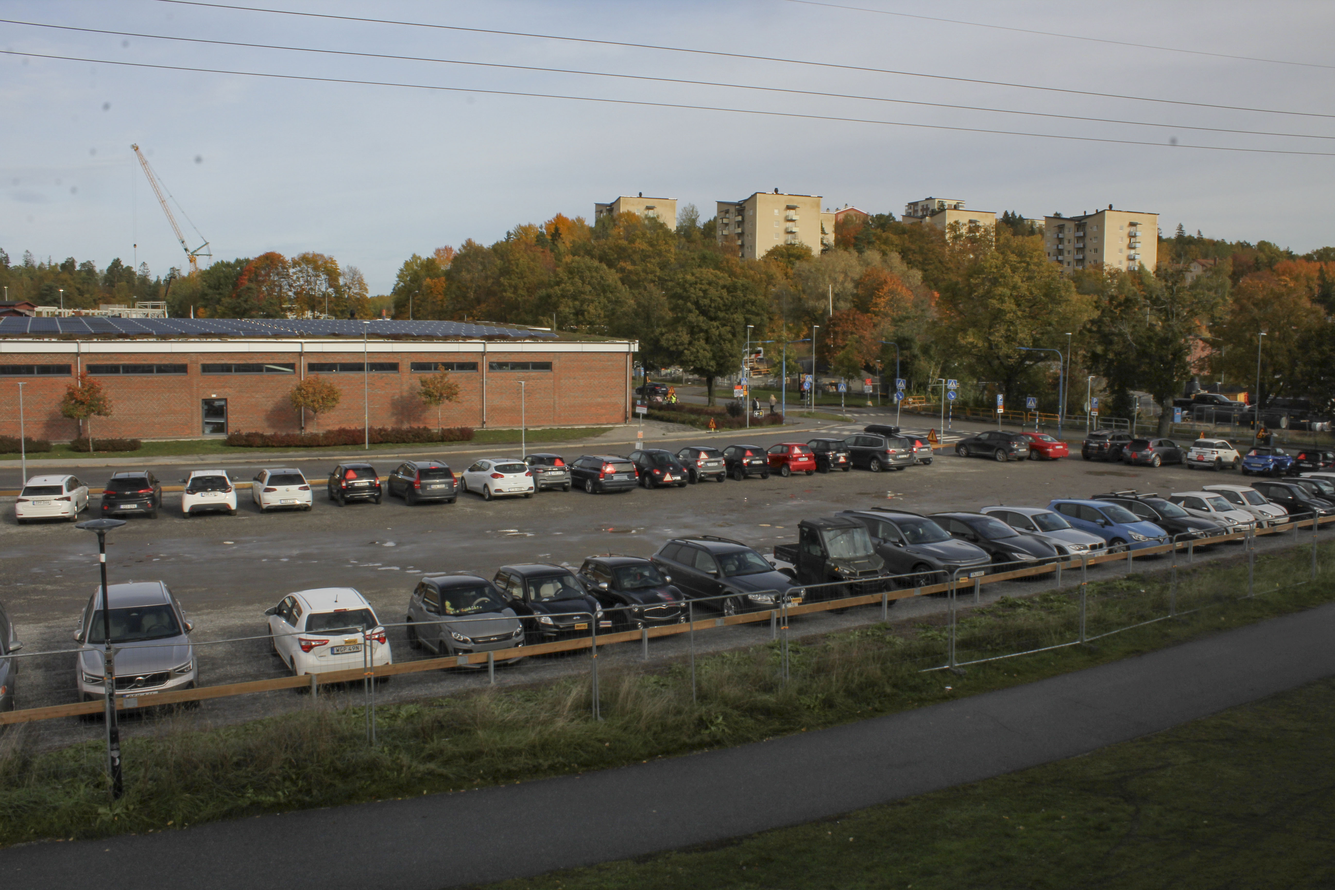Car: (77, 577, 193, 718), (268, 585, 400, 687), (851, 506, 993, 591), (659, 533, 809, 612), (407, 576, 523, 663), (791, 516, 897, 611), (493, 562, 604, 638), (578, 550, 689, 625), (943, 510, 1065, 571), (1089, 500, 1227, 546), (996, 510, 1110, 556), (1048, 508, 1169, 550), (14, 471, 92, 521), (1201, 487, 1290, 529), (1166, 493, 1254, 530), (386, 459, 458, 504), (100, 469, 164, 518), (576, 447, 638, 496), (249, 468, 314, 512), (462, 456, 535, 495), (181, 467, 239, 516), (1267, 482, 1326, 530), (1279, 465, 1335, 512), (852, 430, 912, 471), (330, 461, 383, 506), (640, 446, 690, 490), (0, 600, 17, 729), (950, 432, 1031, 458), (524, 448, 574, 489), (727, 442, 772, 481), (1183, 438, 1239, 468), (812, 435, 852, 473), (774, 441, 816, 476), (1079, 430, 1135, 456), (1239, 448, 1292, 474), (1125, 440, 1179, 465), (692, 446, 726, 485), (1294, 448, 1335, 472), (1030, 433, 1068, 456), (913, 433, 935, 467), (636, 387, 668, 396)
